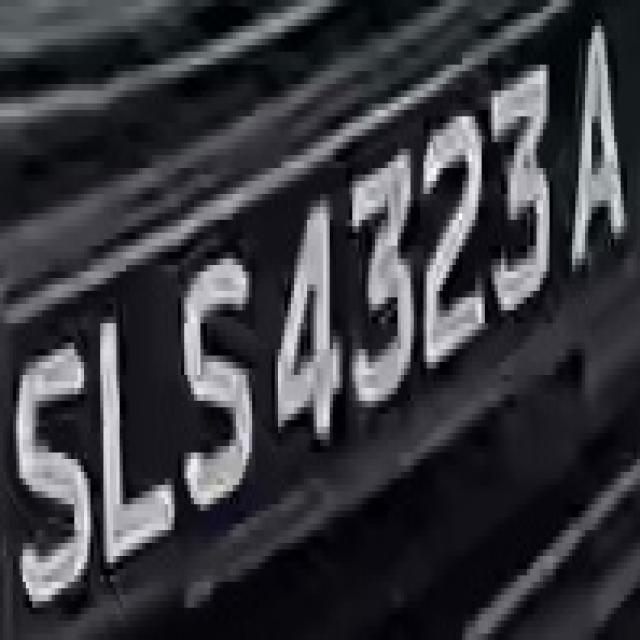2: (404, 90, 491, 382)
3: (336, 142, 420, 440), (478, 65, 566, 342)
4: (268, 174, 352, 466)
A: (565, 0, 640, 284)
L: (78, 298, 181, 576)
S: (162, 220, 258, 524), (10, 323, 94, 601)
